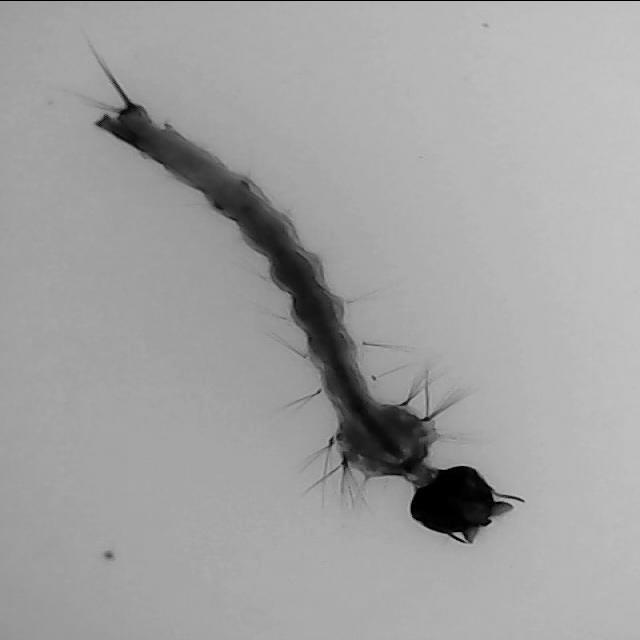larvas: (104, 104, 508, 534)
